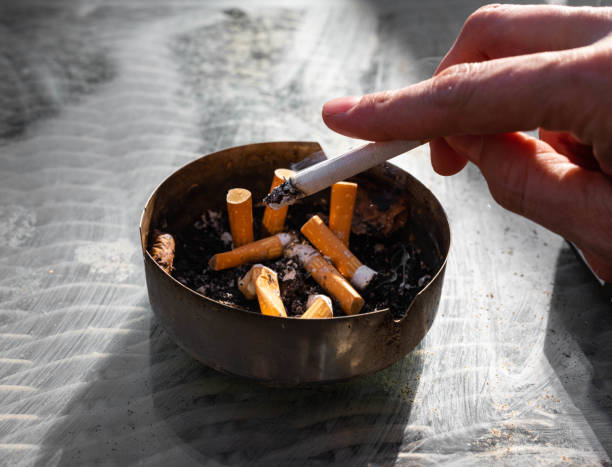cigarette: (255, 132, 432, 207), (281, 240, 365, 317), (299, 214, 379, 293), (206, 231, 297, 271), (238, 263, 289, 318), (261, 164, 300, 234), (327, 180, 359, 248), (225, 187, 255, 250), (300, 293, 334, 318)
